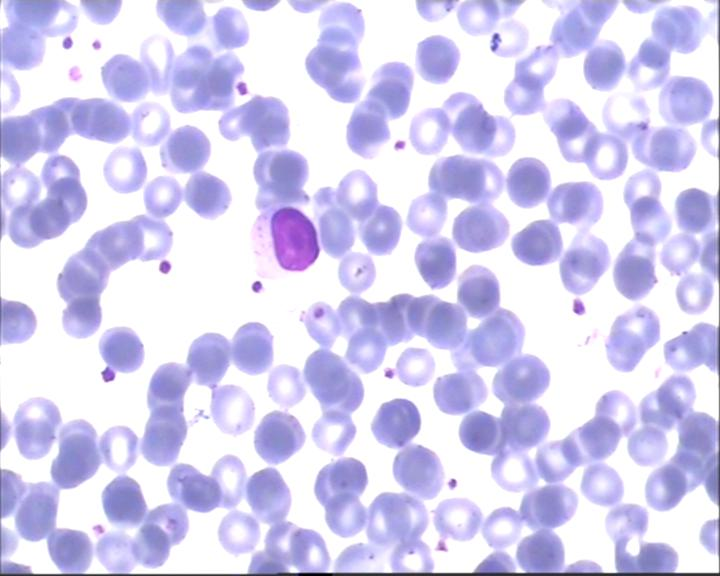mono: (241, 199, 324, 286)
